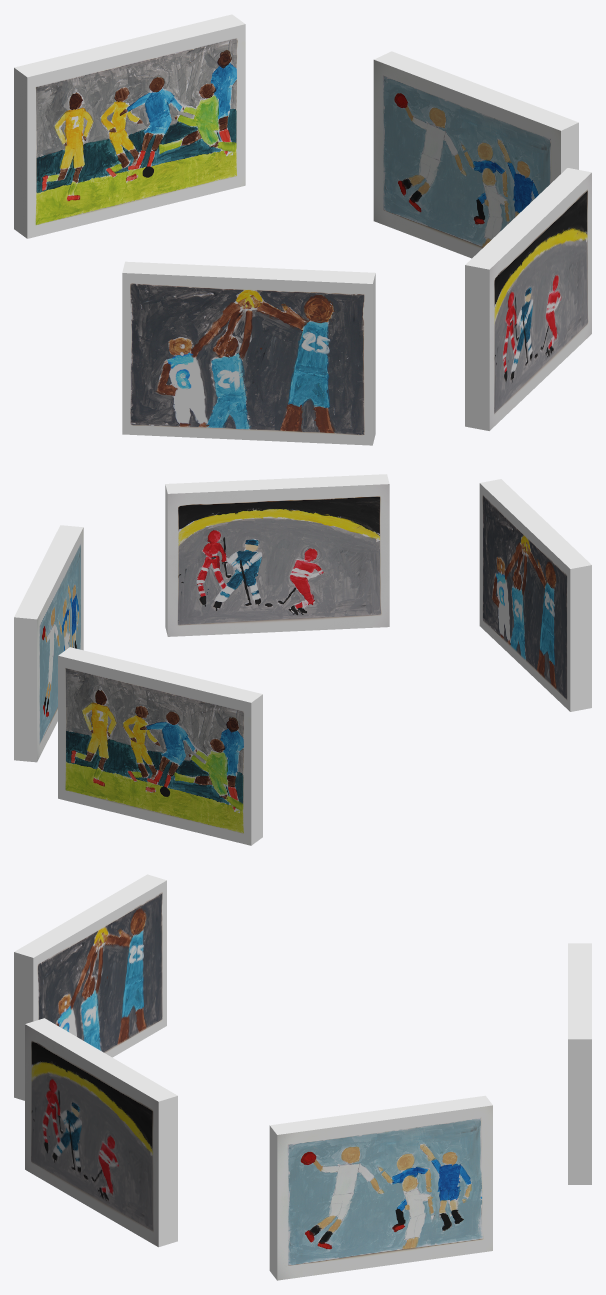
Rendered from 4_landscape.obj.
The picture shows the model from 3 angles, top to bottom: view 1: azimuth 30°, elevation 25°; view 2: azimuth 150°, elevation 25°; view 3: azimuth 270°, elevation 25°; orthographic projection. The views are drawn at different scales.
Parts seen in each view (by area): view 1: Cube_4, Cube_1, Cube_2, Cube_3; view 2: Cube_3, Cube_1, Cube_4, Cube_2; view 3: Cube_2, Cube_3, Cube_4, Cube_1.
Boxes of the visible parts, left/top/right/bottom form: Cube_4: left=122, top=261, right=375, bottom=445; Cube_1: left=14, top=14, right=245, bottom=238; Cube_2: left=373, top=51, right=578, bottom=258; Cube_3: left=465, top=168, right=591, bottom=430; Cube_3: left=165, top=474, right=389, bottom=636; Cube_1: left=58, top=647, right=262, bottom=845; Cube_4: left=479, top=479, right=591, bottom=711; Cube_2: left=14, top=525, right=83, bottom=762; Cube_2: left=269, top=1095, right=492, bottom=1280; Cube_3: left=25, top=1018, right=177, bottom=1247; Cube_4: left=14, top=874, right=166, bottom=1100; Cube_1: left=568, top=943, right=591, bottom=1184.
Bounding box in the file's own units: 1027 × 358 × 1079.
5 materials, 4 textured.
